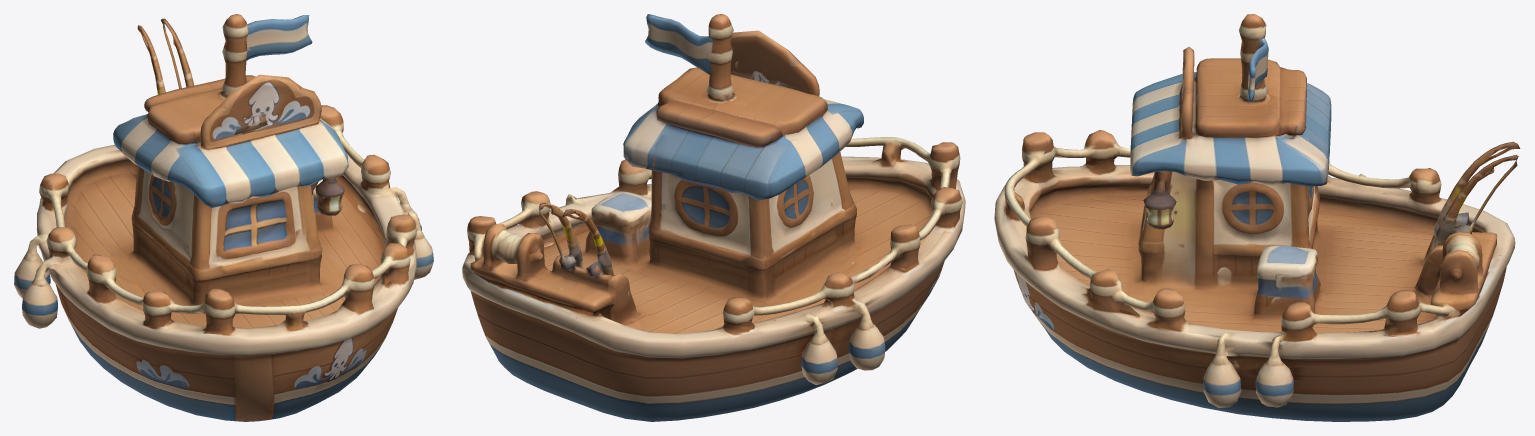
Rendered from squid-boat2.glb.
3 renders of one model, left to right at view 1: azimuth 30°, elevation 25°; view 2: azimuth 150°, elevation 25°; view 3: azimuth 270°, elevation 25°, orthographic. The views are drawn at different scales.
Visible parts, largest first — view 1: tripo_node_faabbce8-9271-49d7-a845-e93204d48d32; view 2: tripo_node_faabbce8-9271-49d7-a845-e93204d48d32; view 3: tripo_node_faabbce8-9271-49d7-a845-e93204d48d32.
Boxes of the visible parts, box(x1,y1,x2,y2) form: tripo_node_faabbce8-9271-49d7-a845-e93204d48d32: box(14, 14, 433, 421); tripo_node_faabbce8-9271-49d7-a845-e93204d48d32: box(462, 14, 965, 421); tripo_node_faabbce8-9271-49d7-a845-e93204d48d32: box(994, 14, 1520, 421).
Size of the model in its own units: 0.8523 by 0.6876 by 0.9729.
1 material, 1 textured.
